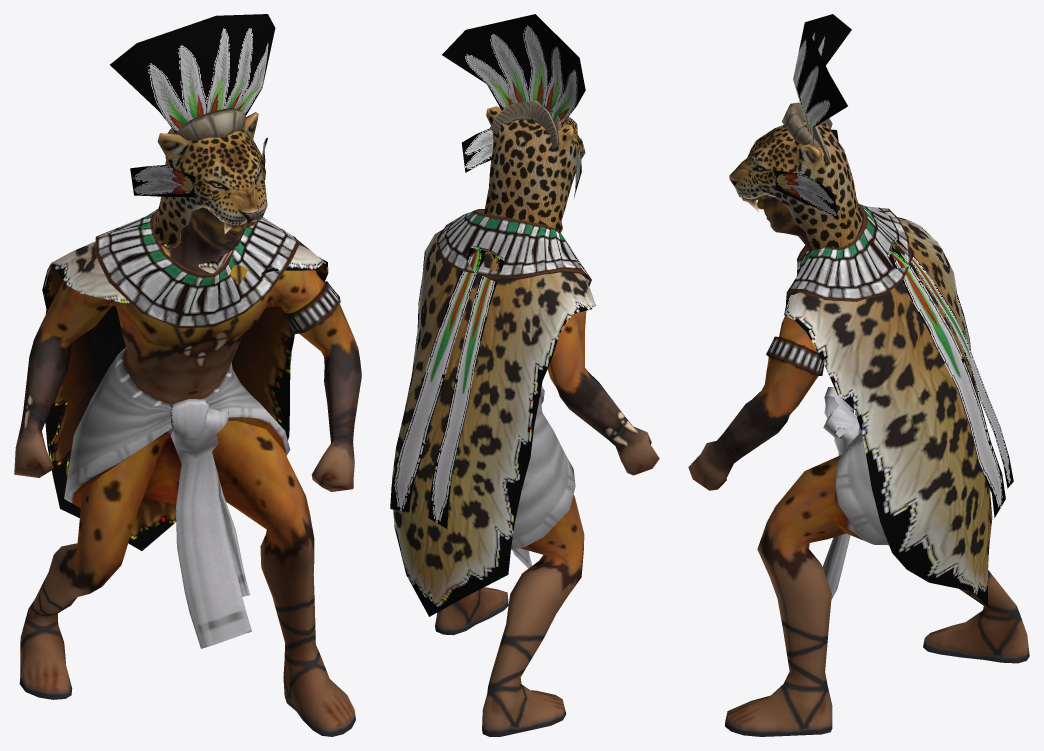
File: body-mediumnobleshutsoldiers.glb
The picture shows the model from 3 angles, left to right: view 1: azimuth 30°, elevation 25°; view 2: azimuth 150°, elevation 25°; view 3: azimuth 270°, elevation 25°; orthographic projection. The views are drawn at different scales.
Size of the model in its own units: 0.9695 by 2.23 by 1.03.
2 materials, 2 textured.
